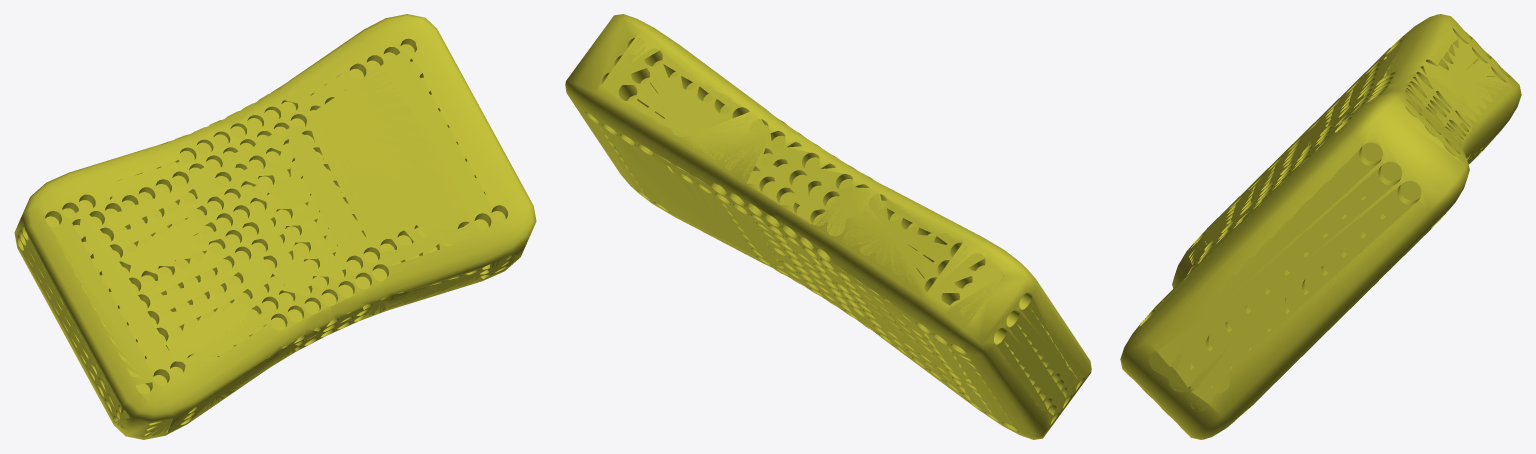
Rendered from Sünger.fbx.
3 views of the same model, side by side, from view 1: azimuth 30°, elevation 25°; view 2: azimuth 150°, elevation 25°; view 3: azimuth 270°, elevation 25° (orthographic). The views are drawn at different scales.
Parts seen in each view (by area): view 1: Sünger; view 2: Sünger; view 3: Sünger.
Boxes of the visible parts, <box> form: Sünger: <box>14,14,536,439</box>; Sünger: <box>565,14,1091,439</box>; Sünger: <box>1120,14,1521,439</box>.
Size of the model in its own units: 55.16 by 39.03 by 30.96.
